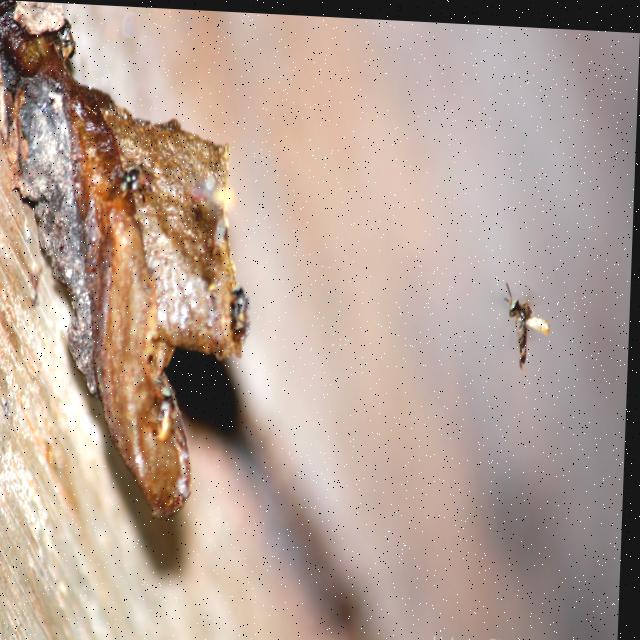Meliponula: (498, 264, 557, 378)
